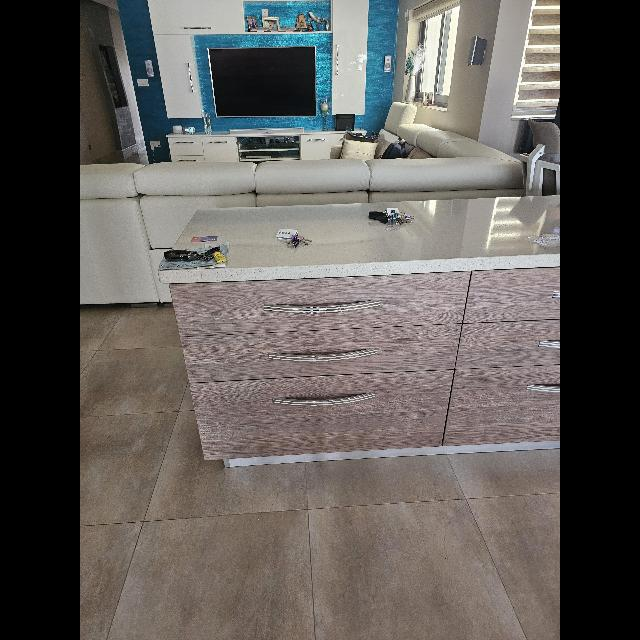Keys: (368, 208, 412, 228), (277, 227, 313, 249)
